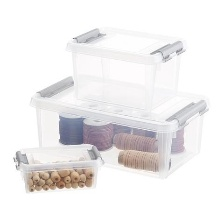plastic_box: (23, 69, 215, 185), (61, 16, 192, 115), (8, 139, 110, 199)
